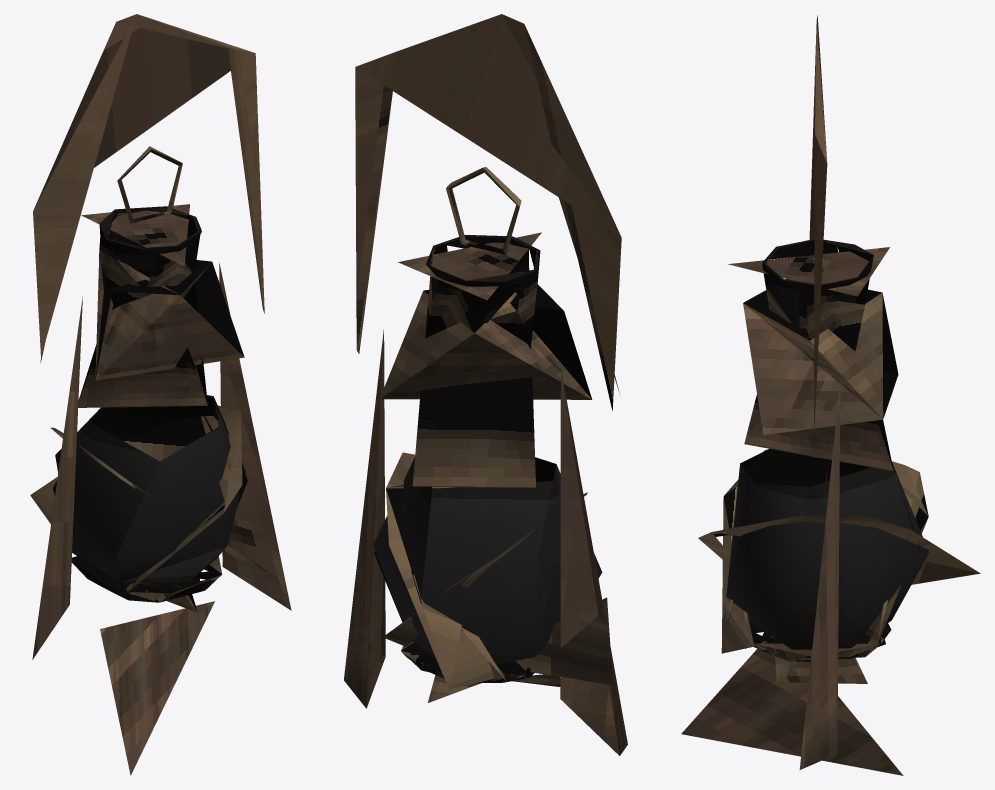
Rendered from Lantern_01.glb.
3 renders of one model, left to right at view 1: azimuth 30°, elevation 25°; view 2: azimuth 150°, elevation 25°; view 3: azimuth 270°, elevation 25°, orthographic. The views are drawn at different scales.
Visible parts, largest first — view 1: Lantern_01; view 2: Lantern_01; view 3: Lantern_01.
Part boxes in pixels (x1,y1,x2,y2): Lantern_01: [30, 14, 291, 775]; Lantern_01: [344, 14, 627, 755]; Lantern_01: [681, 15, 980, 775].
Bounding box in the file's own units: 0.1131 × 0.2941 × 0.1067.
Materials: 2 (2 with a texture image).
